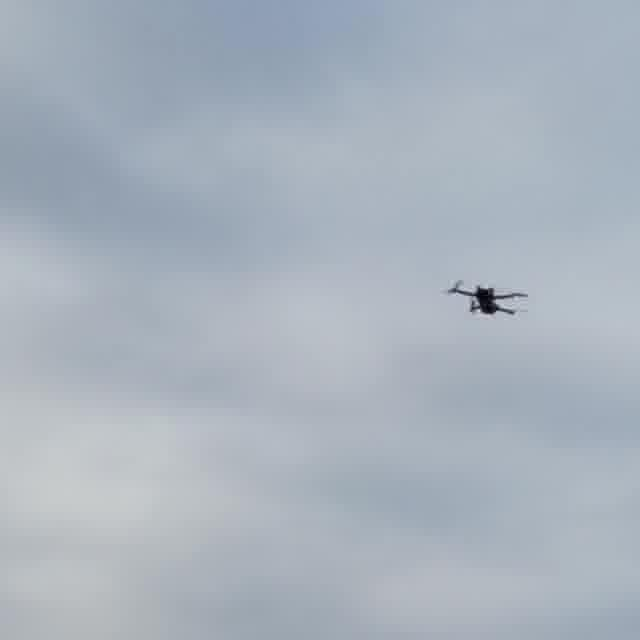Drohne: (445, 281, 527, 314)
